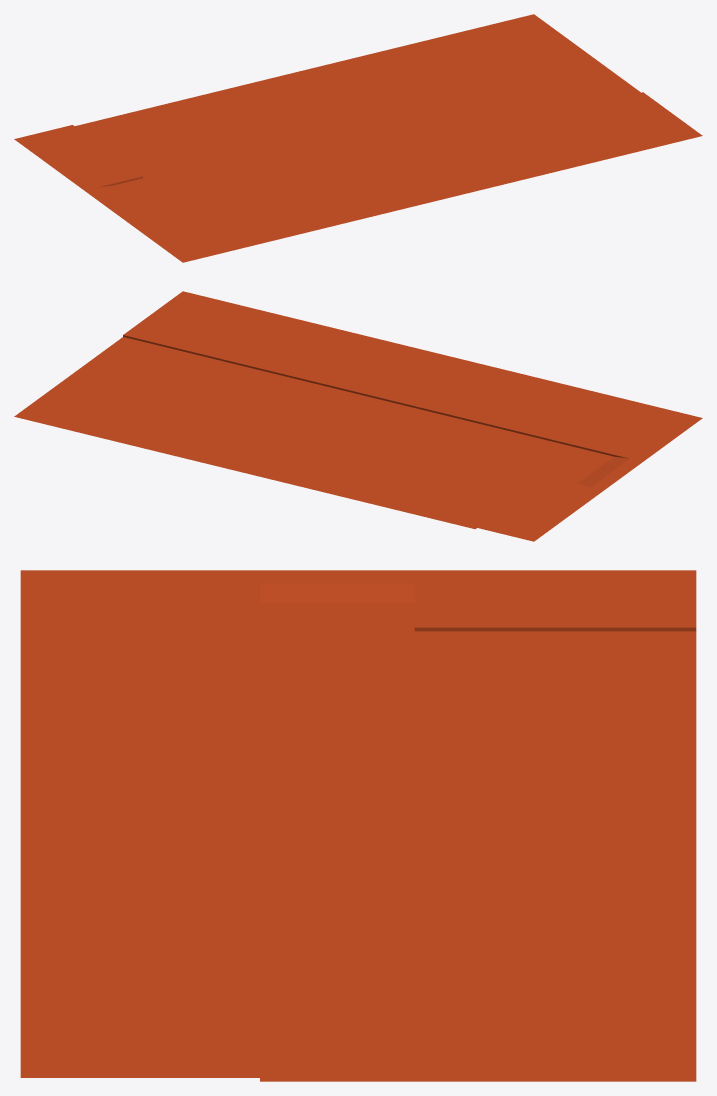
File: chao_terreo.obj
3 views of the same model, one above another, from view 1: azimuth 30°, elevation 25°; view 2: azimuth 150°, elevation 25°; view 3: azimuth 270°, elevation 25° (orthographic). The views are drawn at different scales.
Visible parts, largest first — view 1: chao_terreo_Plane.027; view 2: chao_terreo_Plane.027; view 3: chao_terreo_Plane.027.
Boxes of the visible parts, x1=… form: chao_terreo_Plane.027: x1=14, y1=14, x2=702, y2=262; chao_terreo_Plane.027: x1=14, y1=291, x2=702, y2=541; chao_terreo_Plane.027: x1=20, y1=570, x2=696, y2=1081.
Size of the model in its own units: 42.62 by 0.1486 by 23.98.
